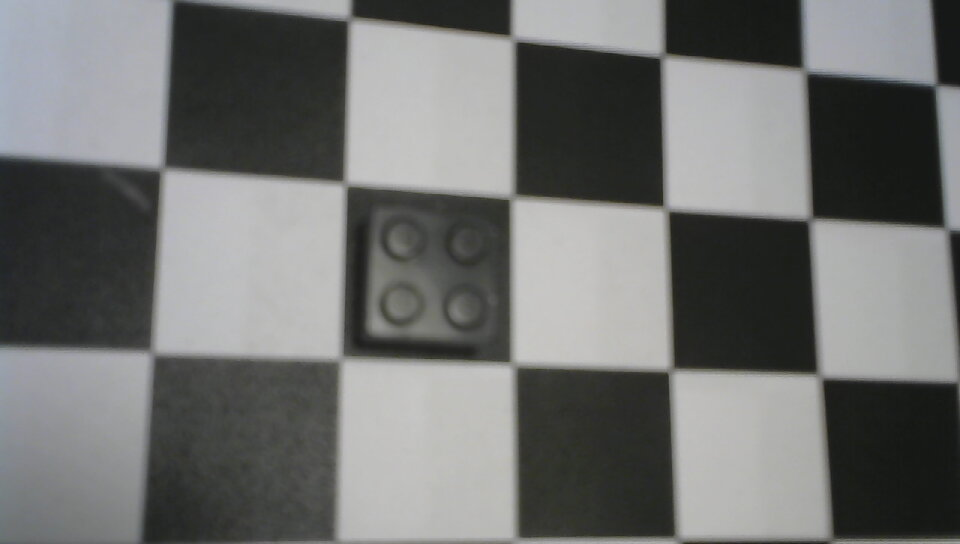bp: (347, 191, 501, 360)
